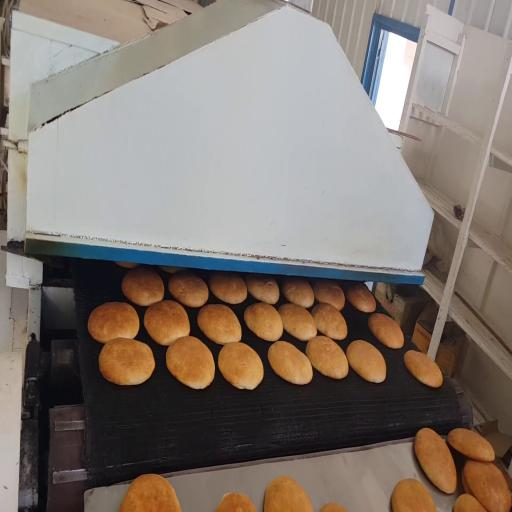bread: (414, 428, 457, 493), (99, 339, 155, 385), (166, 337, 214, 389), (463, 461, 511, 511), (119, 475, 181, 511), (88, 302, 139, 343), (218, 343, 263, 389), (144, 301, 190, 345), (268, 341, 312, 384), (306, 336, 348, 379), (197, 304, 241, 344), (264, 476, 313, 511), (347, 340, 386, 383), (122, 267, 164, 306), (447, 429, 494, 461), (244, 303, 283, 341), (404, 350, 442, 388), (391, 479, 436, 511), (279, 304, 317, 341), (168, 273, 208, 307), (312, 303, 347, 340), (368, 313, 403, 348), (210, 273, 247, 304), (281, 277, 314, 308), (313, 280, 345, 310), (246, 275, 279, 304), (346, 283, 375, 312), (216, 493, 256, 511), (454, 494, 485, 511), (461, 469, 472, 495), (320, 503, 347, 511), (160, 266, 183, 274), (116, 262, 138, 268)
